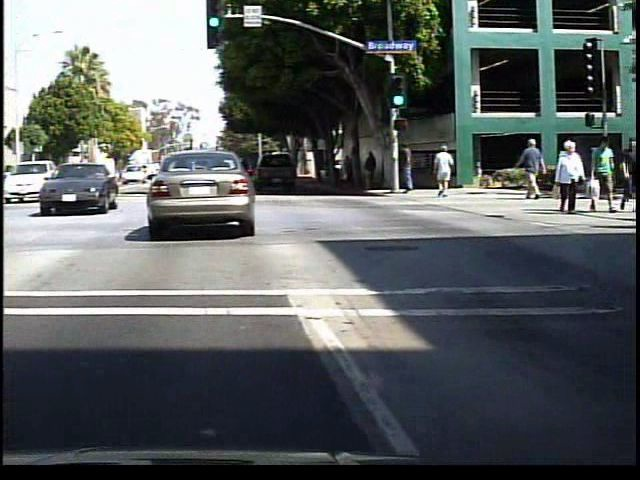person: (590, 137, 622, 217), (558, 139, 590, 216), (521, 139, 554, 203), (434, 143, 459, 200), (401, 140, 421, 200), (367, 148, 385, 192), (347, 153, 362, 189)
